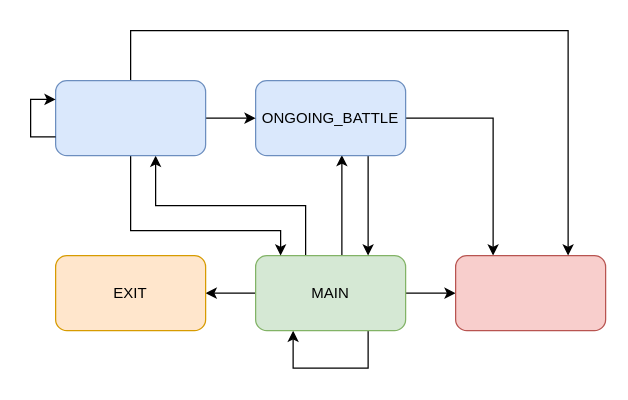
Some shapes in this 628 by 400 pixel diagram are drawn without their labels. Here are the shapes that lost their labels. From the top down, the centre of each, then its label:
pixel 130 117: WAIT_BATTLE
pixel 530 292: ERROR
